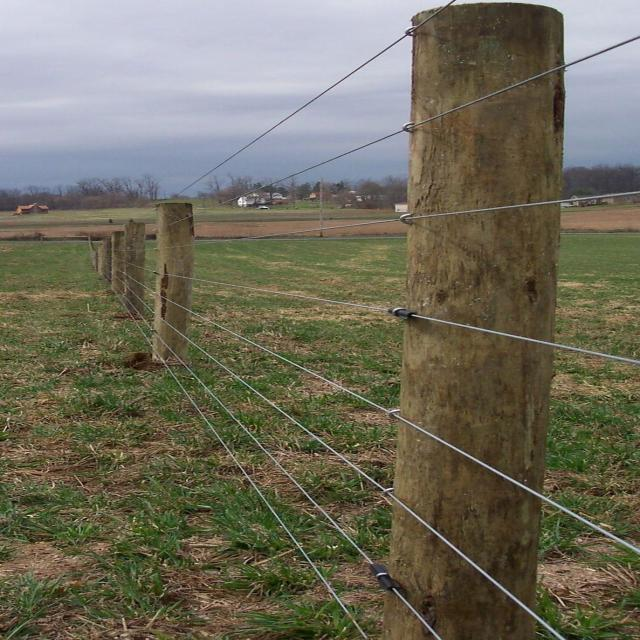fence: (106, 0, 639, 640)
